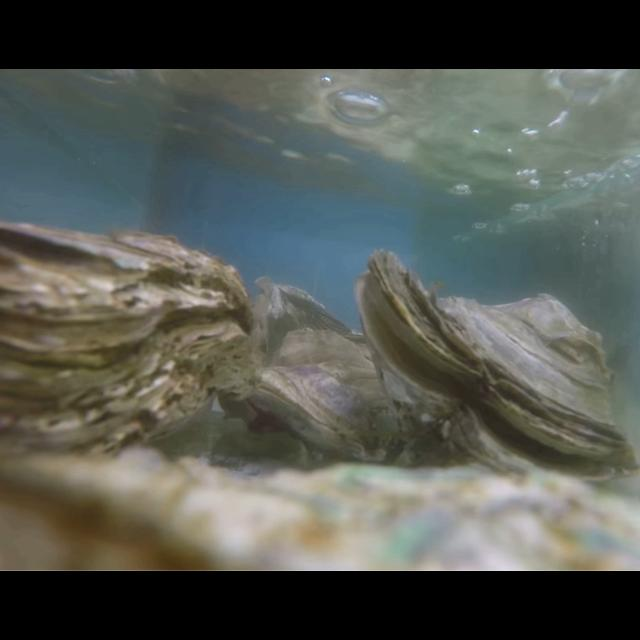Oyster-Closed: (0, 447, 640, 571), (1, 221, 256, 481), (254, 274, 370, 364)
Oyster-Open: (352, 249, 640, 489), (252, 329, 414, 469)
